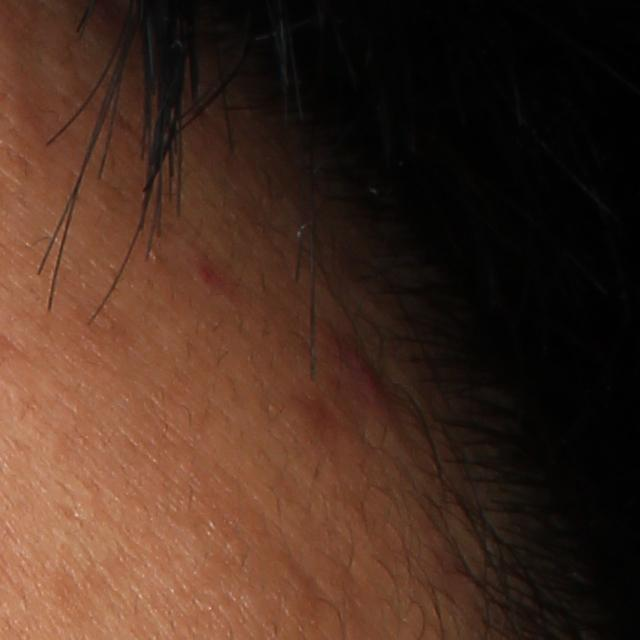papule: (345, 349, 391, 408)
